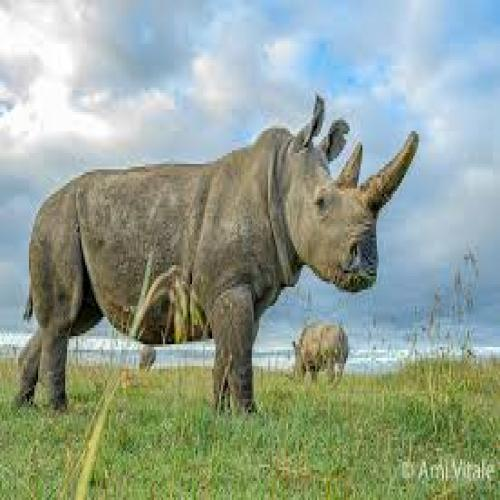rhino-endangered: (15, 92, 422, 420)
